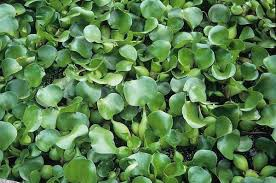water_hyacinth: (0, 0, 276, 182)
